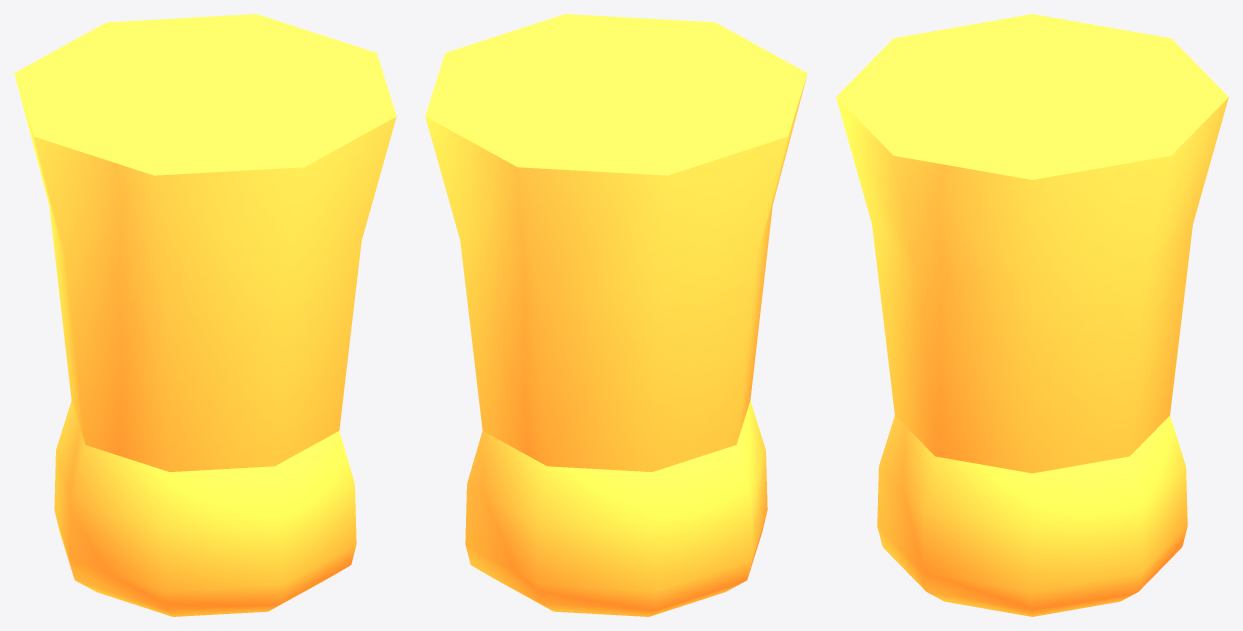
File: gold_grip_022.glb
3 views of the same model, side by side, from view 1: azimuth 30°, elevation 25°; view 2: azimuth 150°, elevation 25°; view 3: azimuth 270°, elevation 25° (orthographic).
Visible parts, largest first — view 1: gold_grip_022; view 2: gold_grip_022; view 3: gold_grip_022.
Boxes of the visible parts, <box> form: gold_grip_022: <box>14,14,396,616</box>; gold_grip_022: <box>425,14,807,616</box>; gold_grip_022: <box>836,14,1228,616</box>.
Bounding box in the file's own units: 2.65 × 3.48 × 2.65.
1 material, 1 textured.
